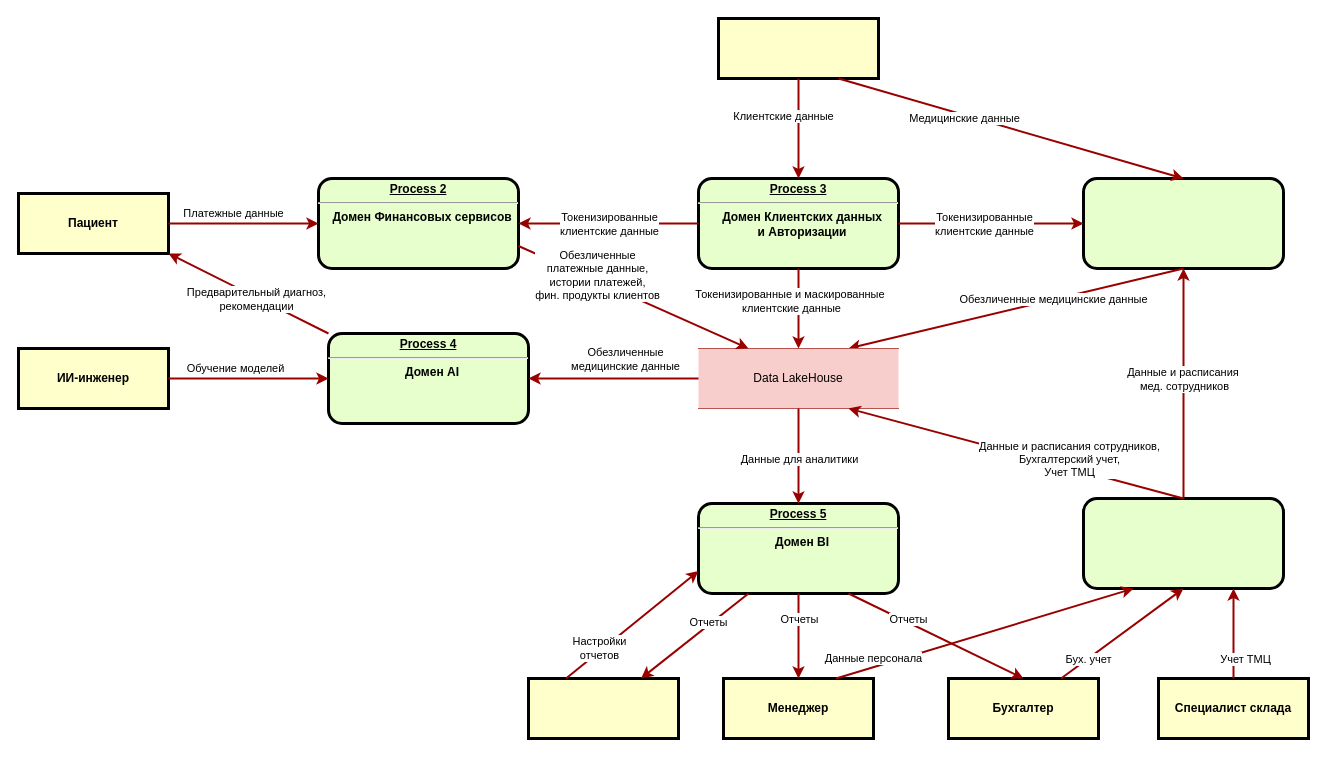
The diagram is 1327 pixels wide and 757 high, and some of its shapes have lost their labels. The shapes that lost their labels are listed below. From the top down, each one's centre as x and y in pixels, then its label:
(798,48): Оператор Клиники
(1183,223): Process 1 Домен Медицины
(1183,543): Process 6 Домен Внутренних сервисов управления компанией
(603,708): Бизнес-аналитик
